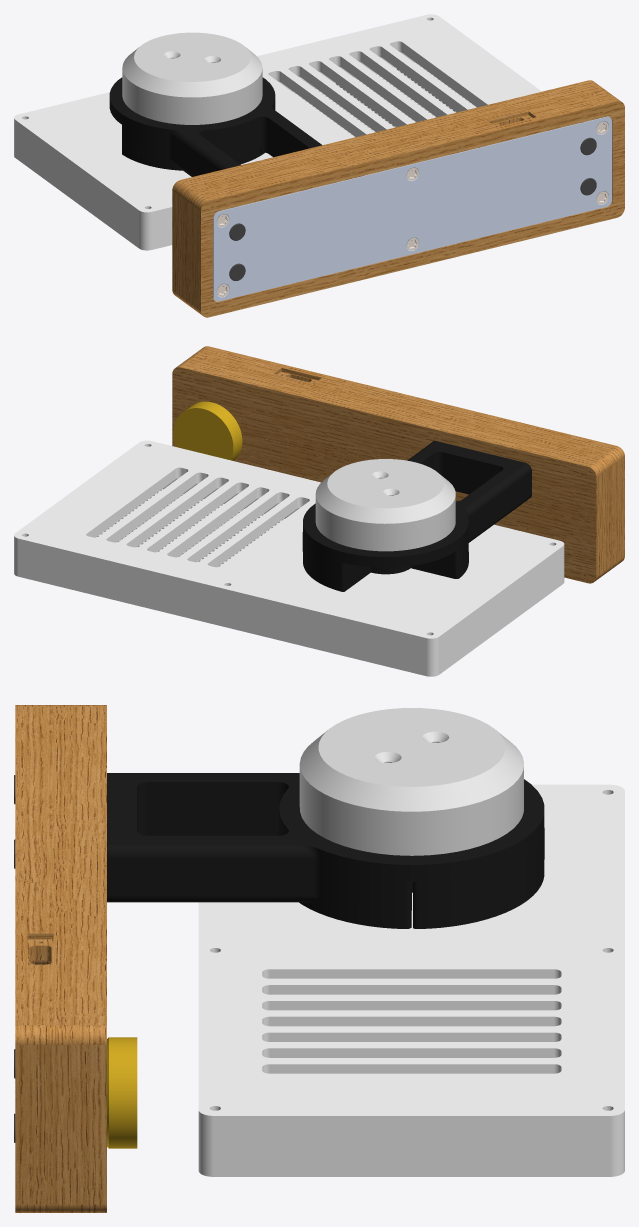
Rendered from projet2.gltf.
The picture shows the model from 3 angles, top to bottom: view 1: azimuth 30°, elevation 25°; view 2: azimuth 150°, elevation 25°; view 3: azimuth 270°, elevation 25°; orthographic projection. The views are drawn at different scales.
Parts seen in each view (by area): view 1: 0004-1, 0008-1, 0002-1, 0012-1, 0006-1, 0007-1, 0009-1; view 2: 0008-1, 0002-1, 0007-1, 0012-1, 0006-1, 0003-1, 0010-1, 0011-1, 0009-1; view 3: 0008-1, 0002-1, 0006-1, 0012-1, 0007-1, 0010-1, 0003-1, 0011-1, 0009-1.
Boxes of the visible parts, x1,y1,x2,y2 form: 0004-1: (213, 116, 612, 301); 0008-1: (14, 14, 541, 222); 0002-1: (172, 80, 624, 317); 0012-1: (122, 32, 262, 124); 0006-1: (109, 77, 322, 176); 0007-1: (14, 52, 476, 250); 0009-1: (122, 144, 264, 170); 0008-1: (14, 440, 564, 649); 0002-1: (172, 346, 624, 583); 0007-1: (14, 478, 564, 676); 0012-1: (315, 459, 455, 551); 0006-1: (303, 441, 531, 568); 0003-1: (173, 401, 242, 460); 0010-1: (302, 532, 364, 581); 0011-1: (303, 555, 411, 591); 0009-1: (411, 552, 468, 578); 0008-1: (198, 784, 624, 1132); 0002-1: (15, 705, 106, 1212); 0006-1: (107, 773, 544, 912); 0012-1: (299, 708, 523, 855); 0007-1: (198, 1120, 624, 1176); 0010-1: (413, 828, 544, 912); 0003-1: (107, 1037, 137, 1148); 0011-1: (412, 861, 544, 928); 0009-1: (299, 896, 411, 928).
Size of the model in its own units: 0.2095 by 0.0676 by 0.1633.
11 materials, 1 textured.
